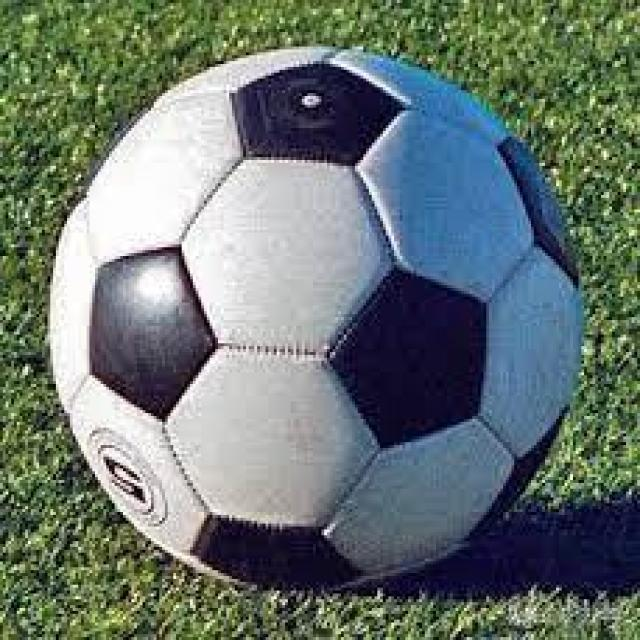ball: (49, 47, 582, 592)
